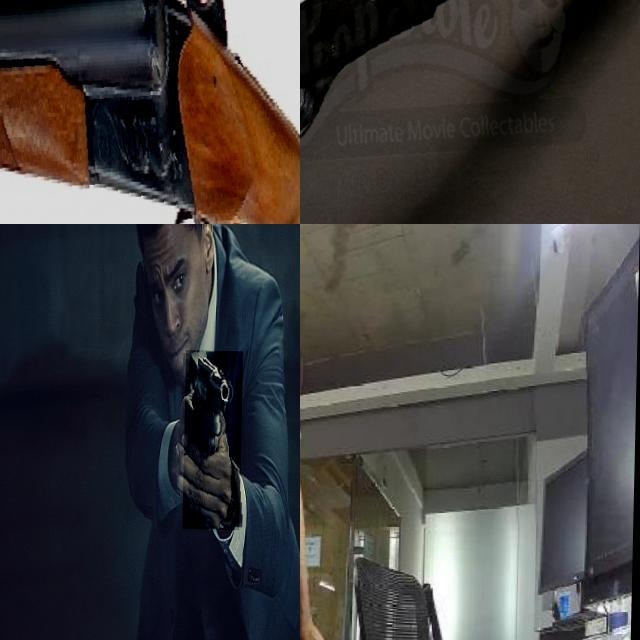gun-knife-thesis - v11 Yolov5 augmented: (300, 0, 640, 224), (0, 0, 300, 224), (184, 349, 244, 529)
